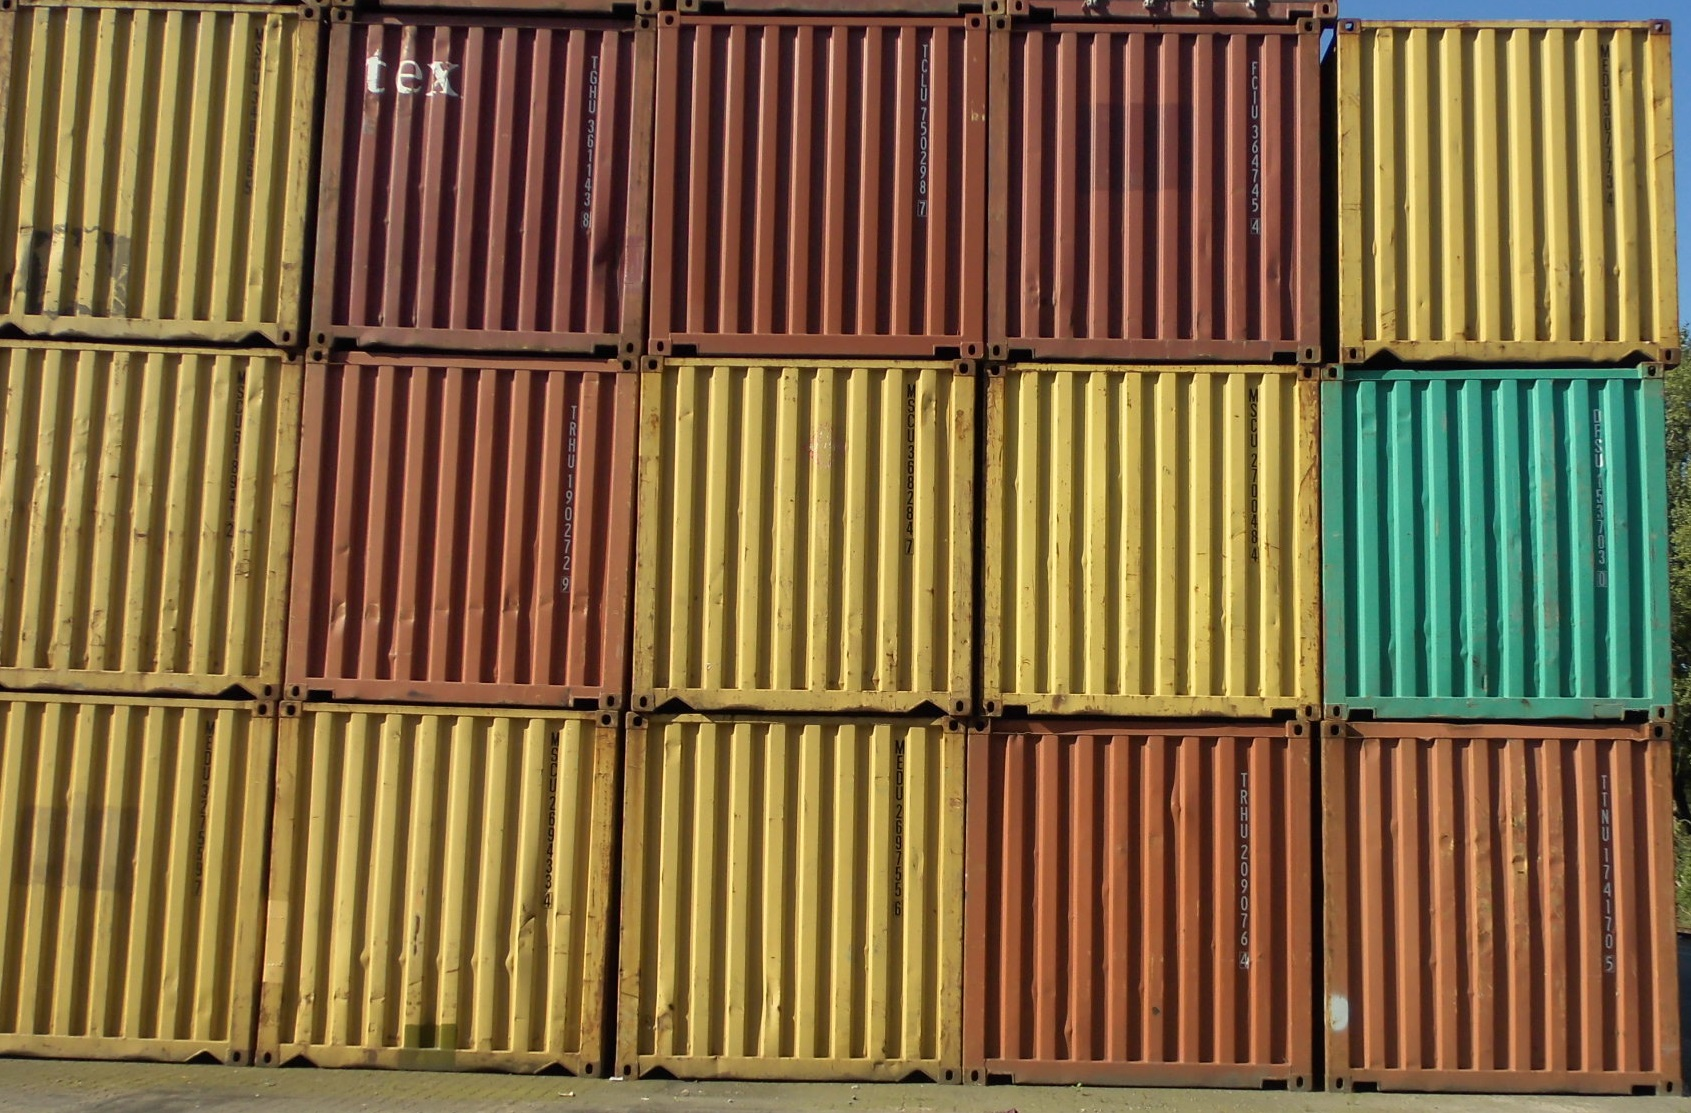container_no_door: (259, 712, 623, 1068), (1322, 715, 1675, 1083), (966, 718, 1319, 1084), (629, 715, 960, 1078), (1331, 24, 1679, 361), (980, 365, 1317, 713), (1321, 366, 1657, 715), (651, 15, 996, 354), (639, 361, 976, 708), (295, 354, 632, 701), (997, 17, 1321, 368), (335, 14, 638, 357), (1, 342, 289, 701), (1, 701, 289, 1058), (1, 10, 323, 329)
